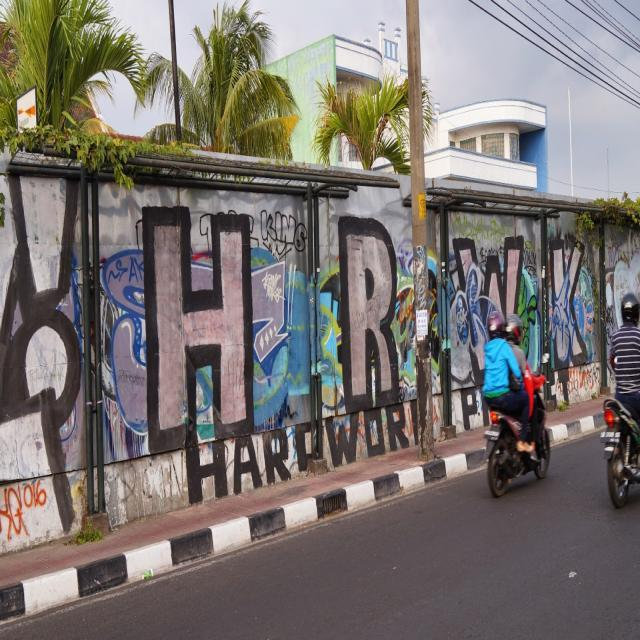-: (142, 204, 252, 438), (183, 410, 409, 493), (12, 164, 78, 420), (340, 212, 400, 406), (456, 236, 524, 380), (100, 252, 146, 442), (546, 238, 586, 364), (252, 259, 290, 361), (0, 476, 46, 538), (258, 210, 306, 248), (459, 385, 487, 433)
